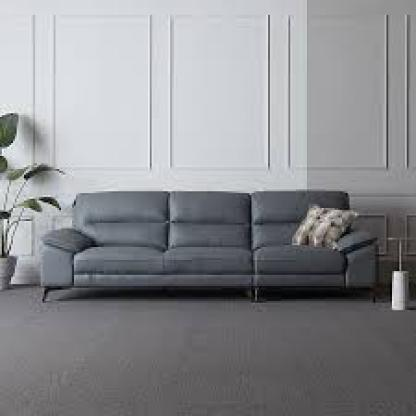sofa: (44, 189, 370, 303)
